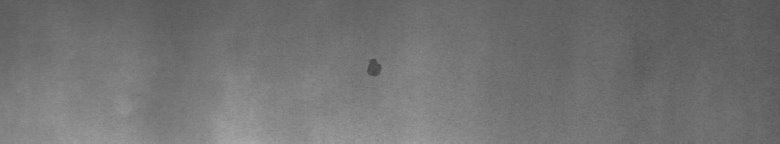fi: (364, 52, 387, 84)
